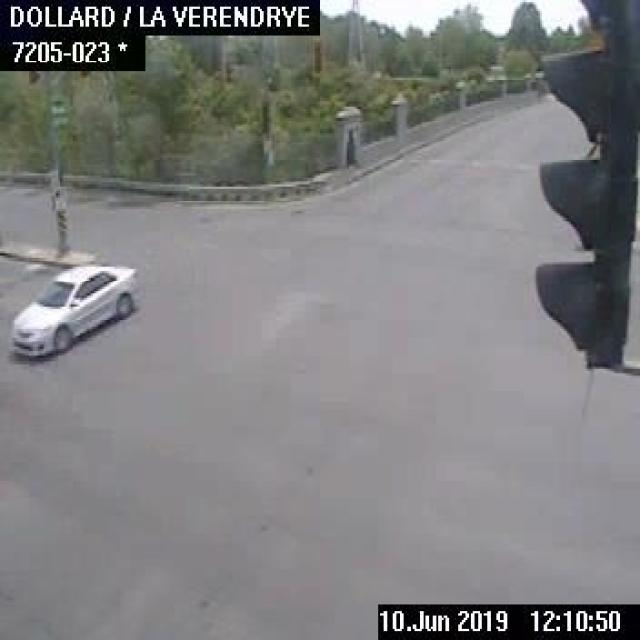vehicle: (3, 260, 144, 356)
